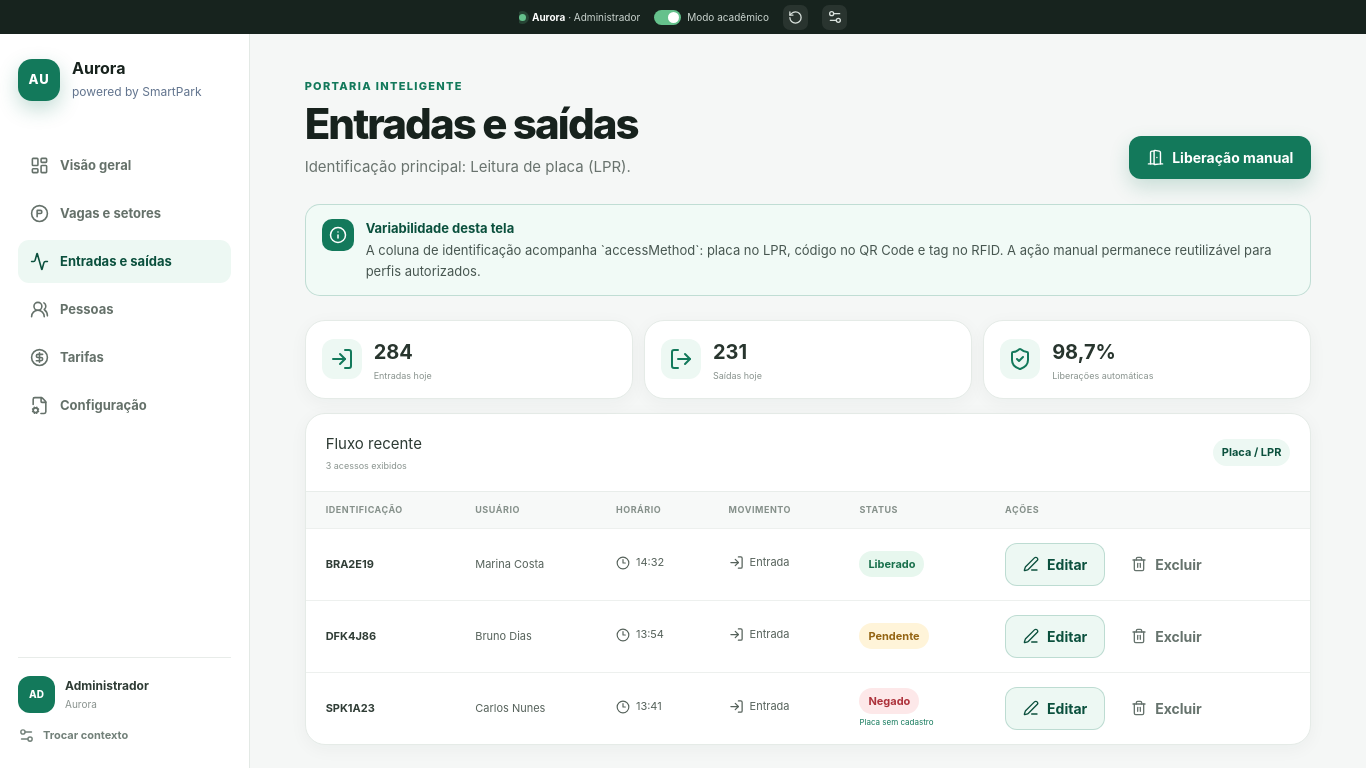
acessos (entradas e saídas) › mostra o erro devolvido pela API
This screenshot has width=1366, height=768.
Click the button with aria-label "Editar acesso de Bruno Dias": (1055,636) [1005,615,1105,658]
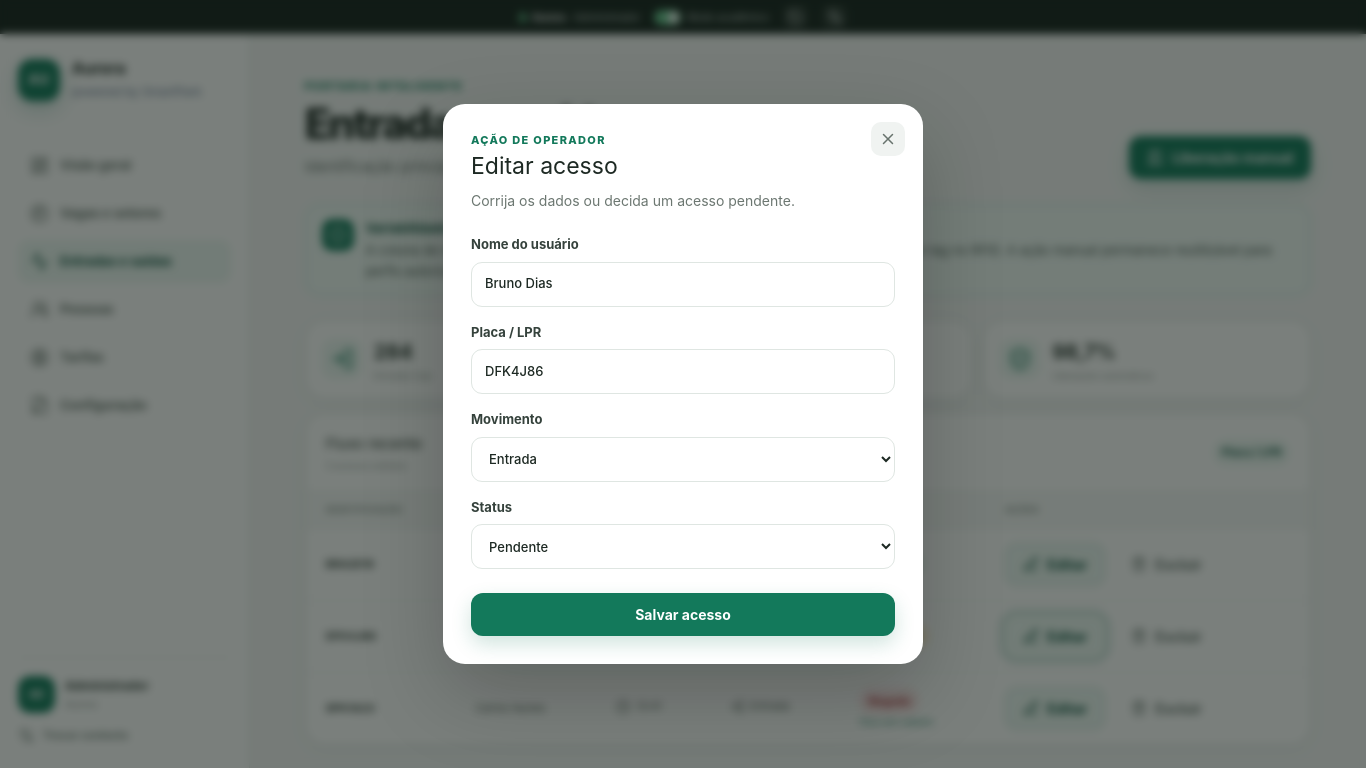
Click the button "Salvar acesso": (683,614) [471,593,895,636]
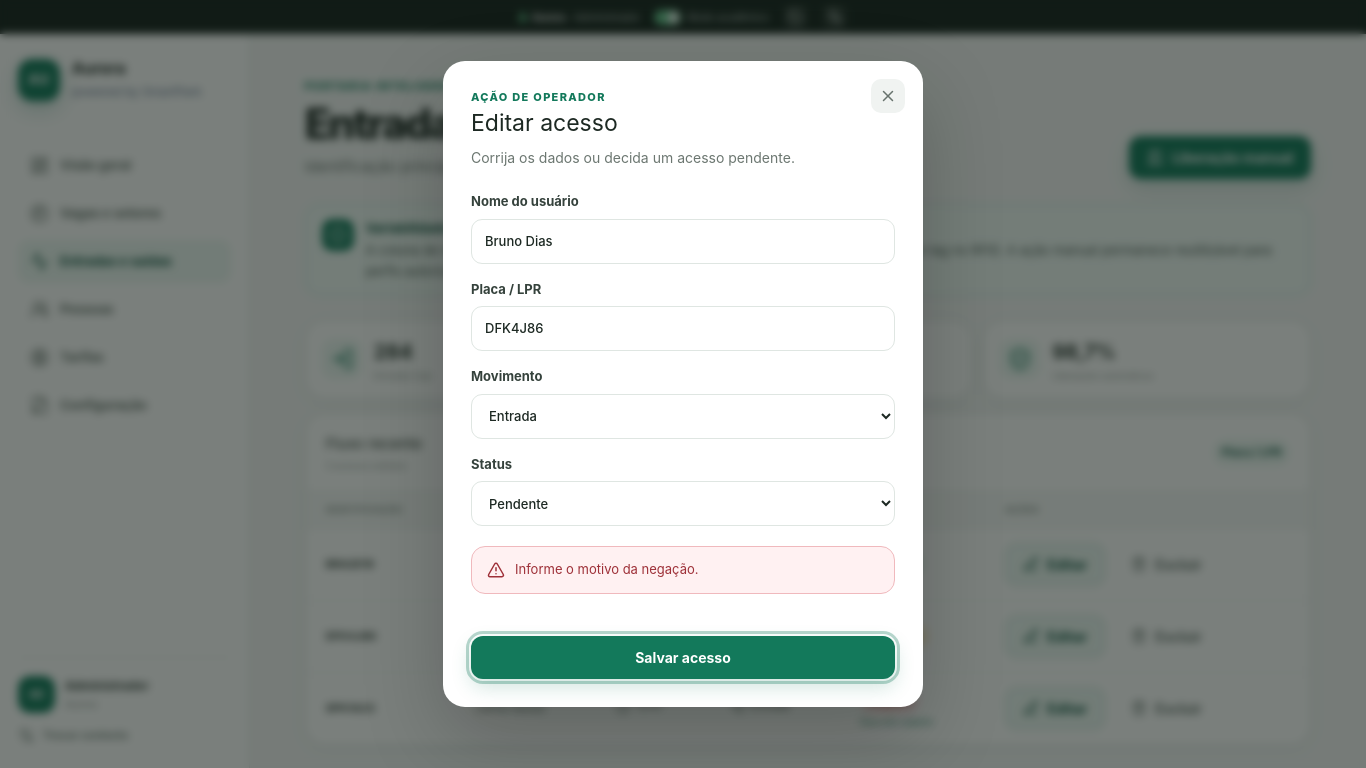
expect the dialog is shown: met, box [443,61,923,707]
expect the text "Informe o motivo da negação." is shown: met, box [515,560,698,580]
